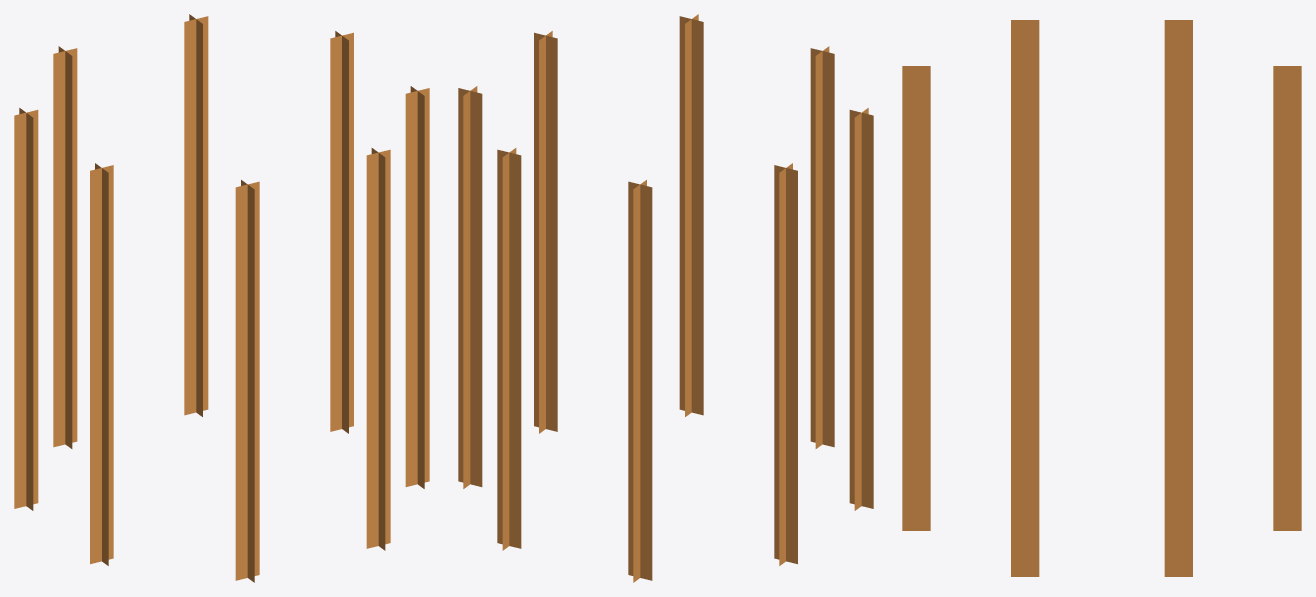
The model's file is well_beams.obj.
3 renders of one model, left to right at view 1: azimuth 30°, elevation 25°; view 2: azimuth 150°, elevation 25°; view 3: azimuth 270°, elevation 25°, orthographic.
Size of the model in its own units: 9.94 by 11 by 9.94.
